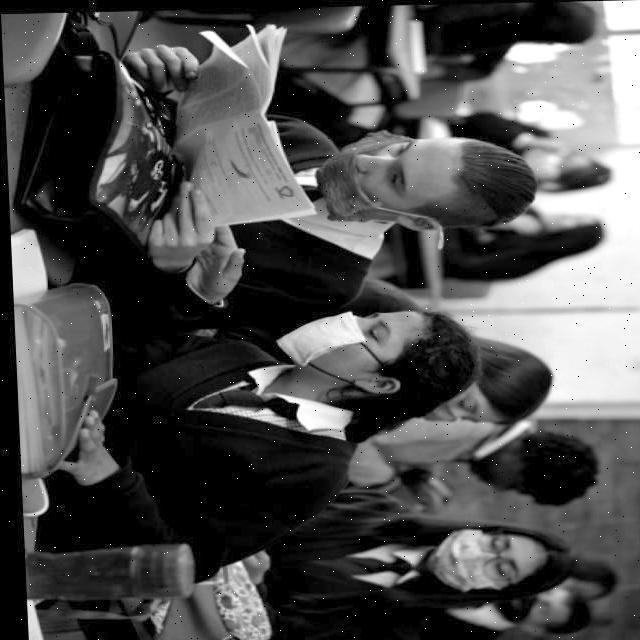mask: (284, 307, 360, 367), (438, 530, 493, 596)
no_apron: (150, 180, 211, 268), (126, 33, 203, 96), (65, 411, 121, 479), (200, 223, 244, 303)
no_gloves: (454, 132, 538, 226), (404, 310, 462, 396), (529, 436, 593, 502), (480, 342, 540, 412), (519, 536, 569, 583)
no_hairnet: (318, 130, 388, 231)
